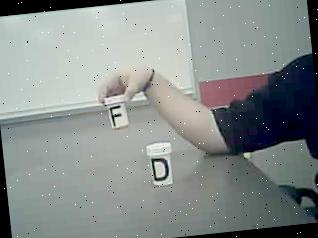Bottle D: (144, 138, 180, 192)
Bottle F: (101, 90, 132, 130)
